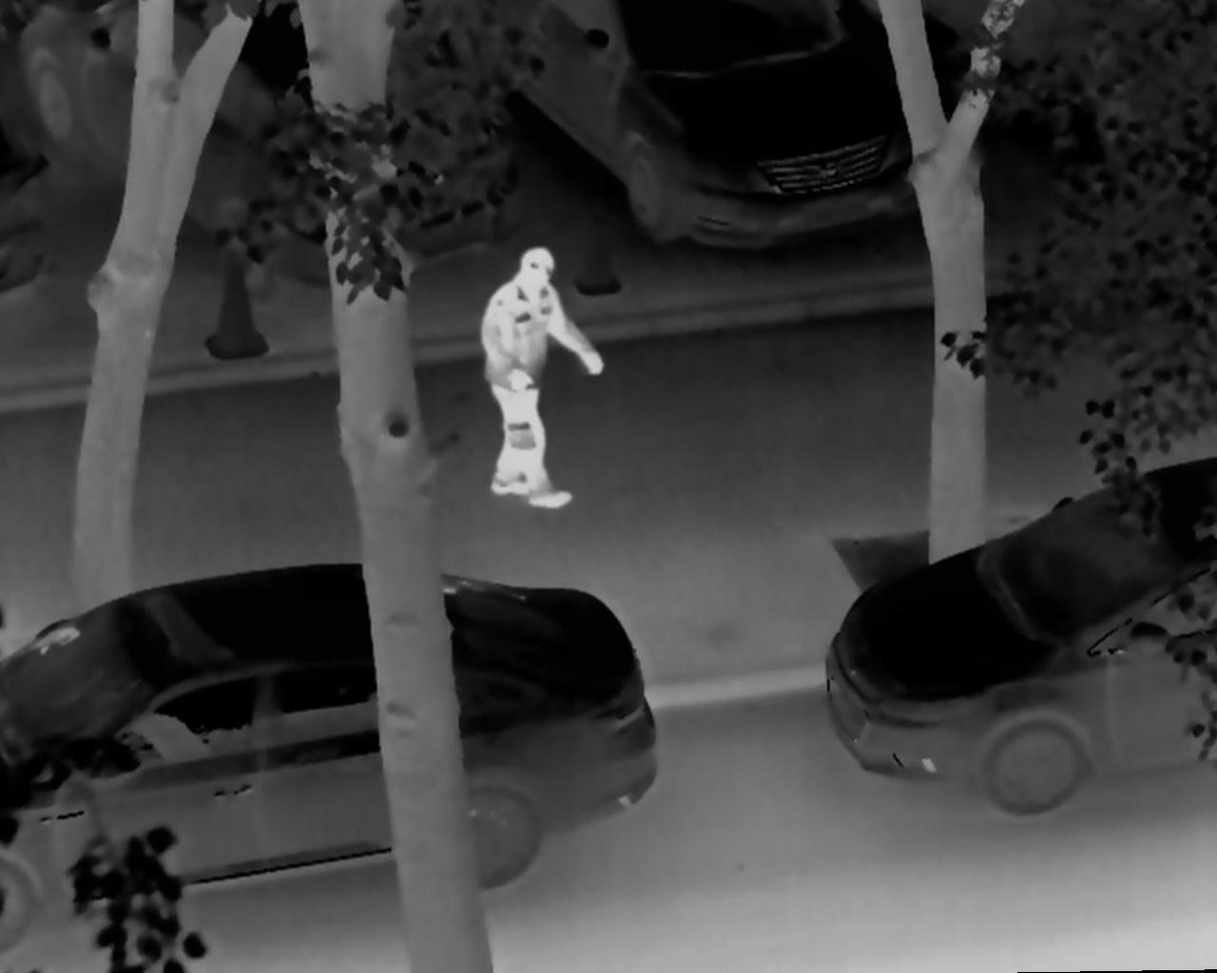person: (475, 241, 605, 513)
